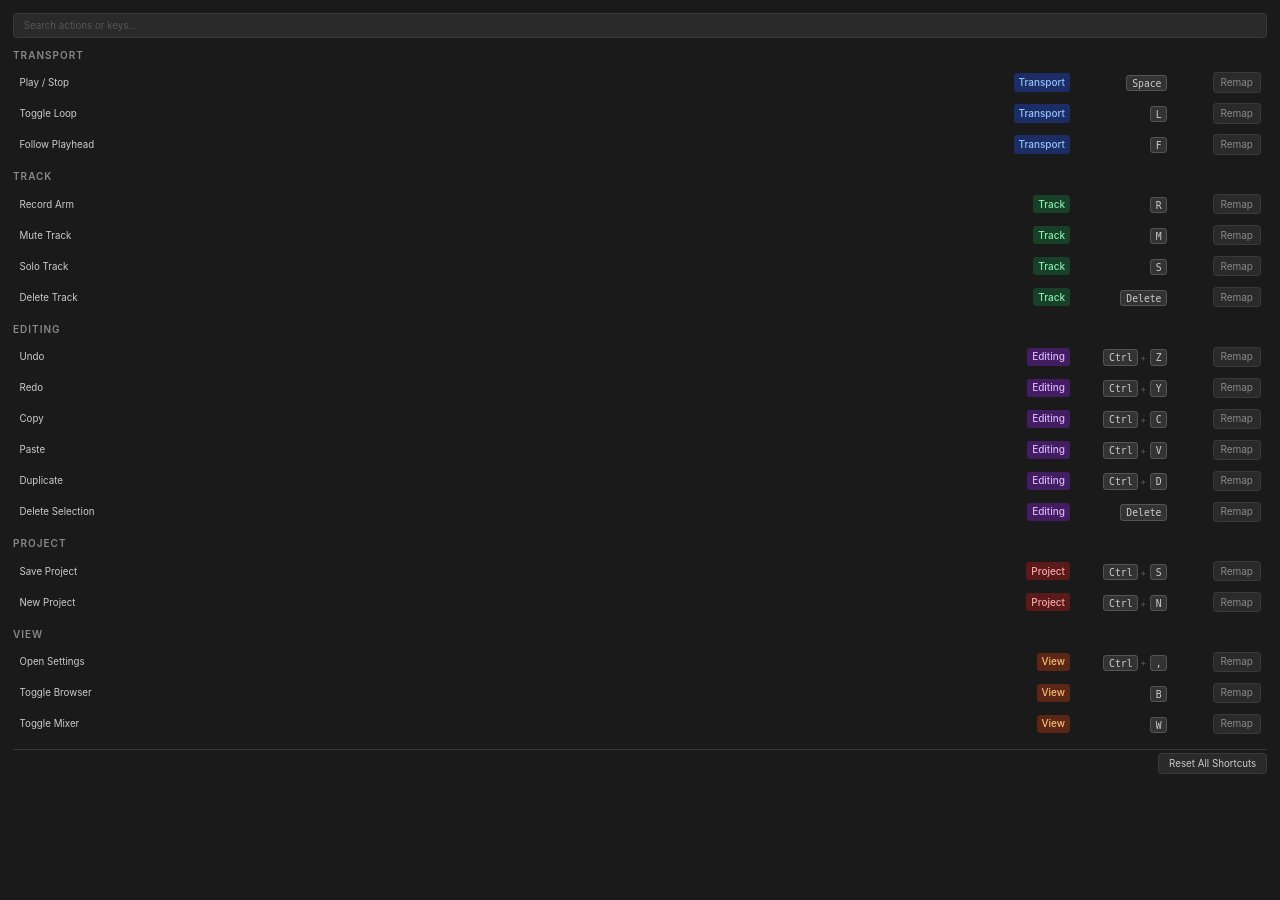
Test: ShortcutsSettingsTab › pressing Escape in KeyCaptureModal closes it without change
Click the button "Remap" next to "Space": (1237, 82) [1213, 72, 1260, 93]
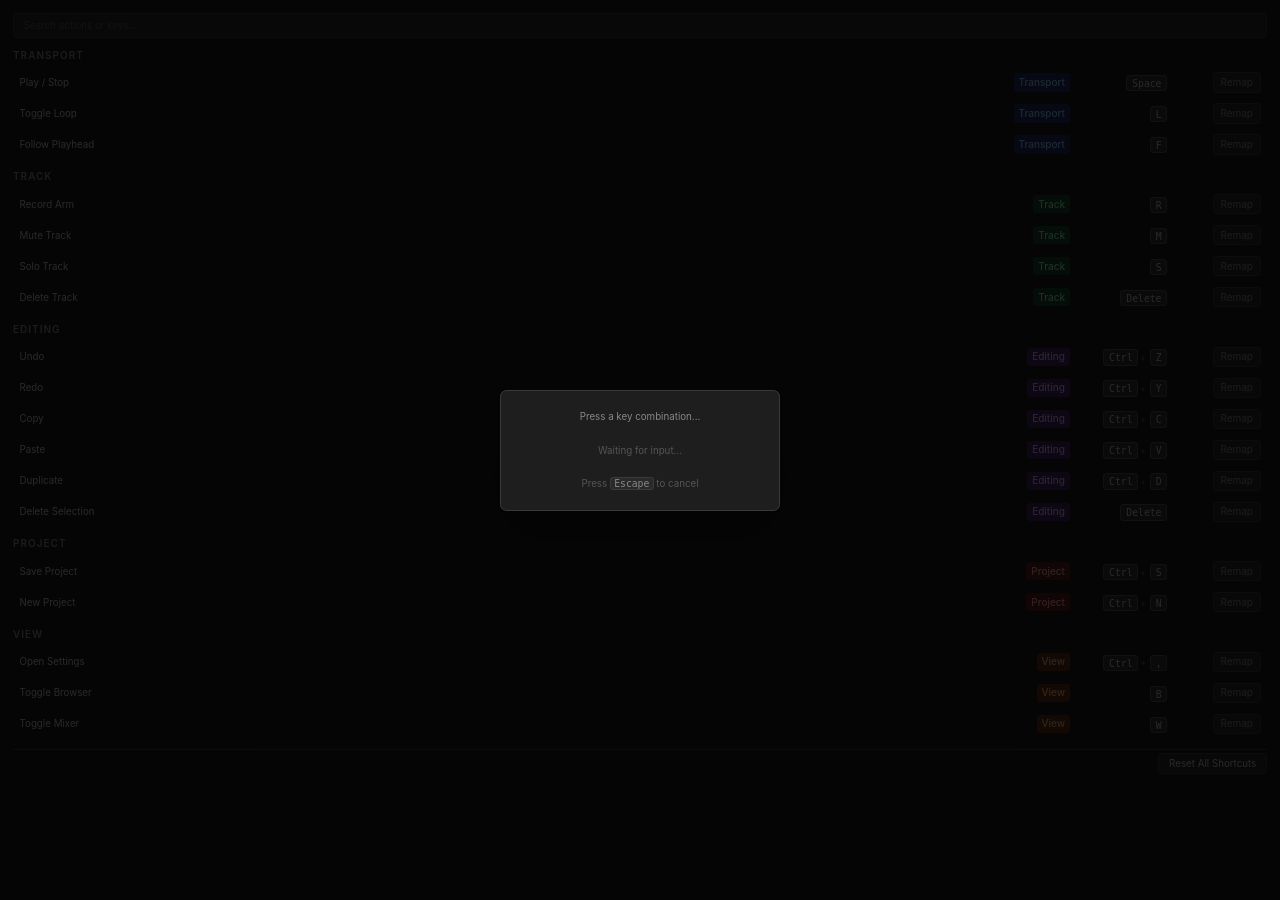
Expected: the text "Press a key combination..." is shown, [580, 411, 700, 422]
Press Escape
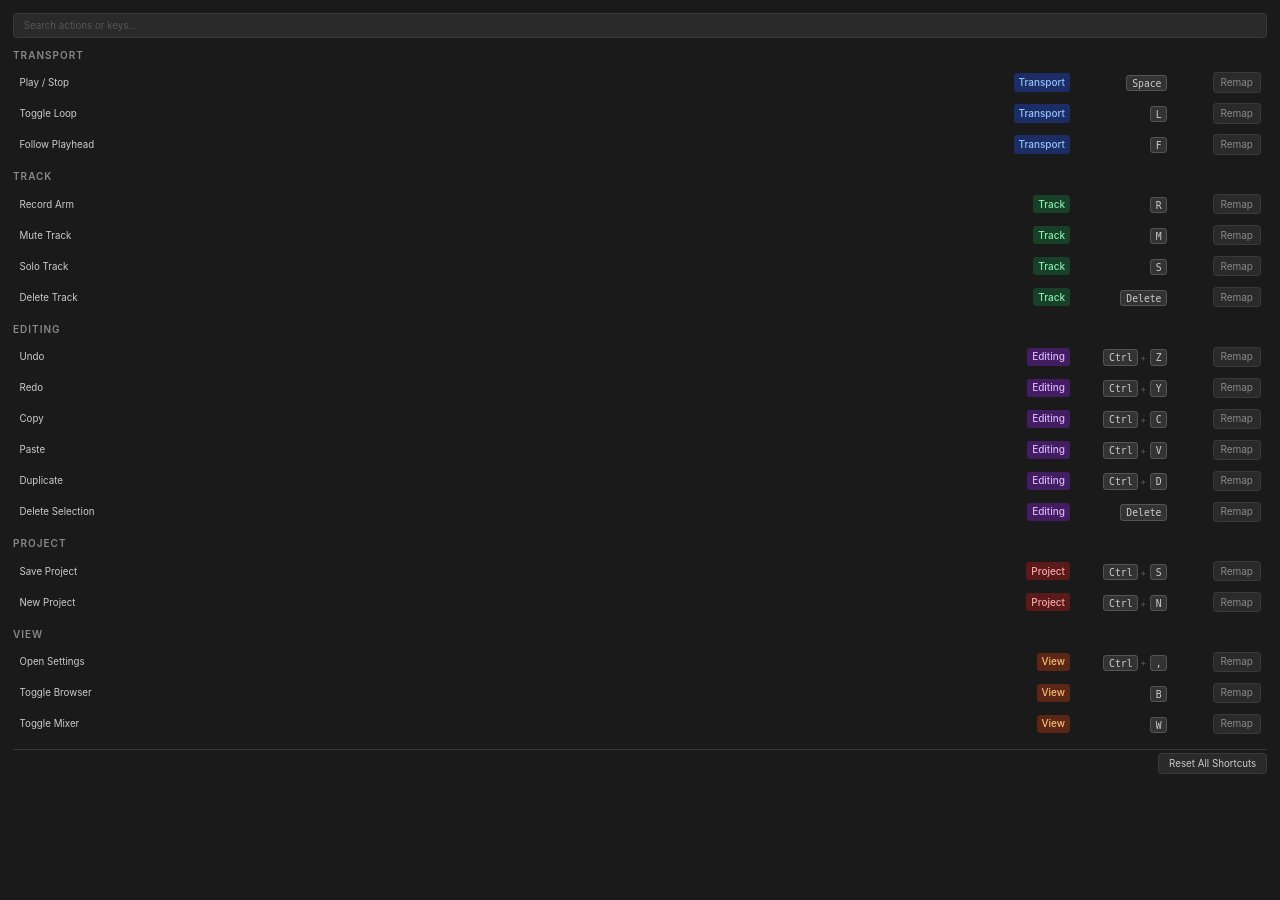
Expected: the text "Press a key combination..." is gone
